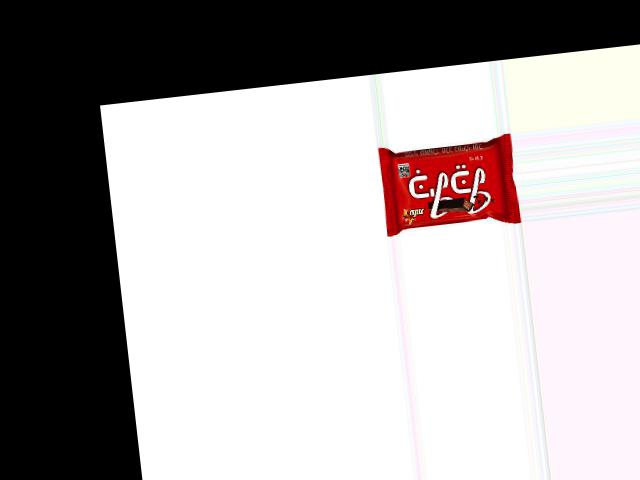chocolate: (378, 131, 520, 237)
